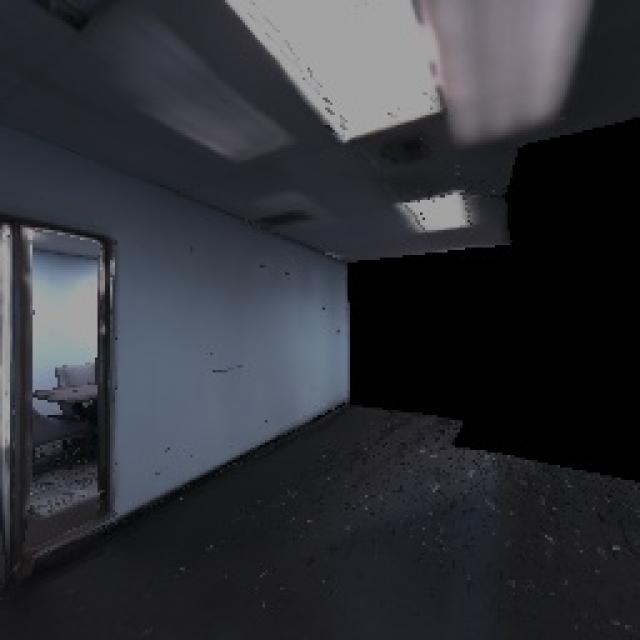door-frame: (0, 217, 127, 561)
